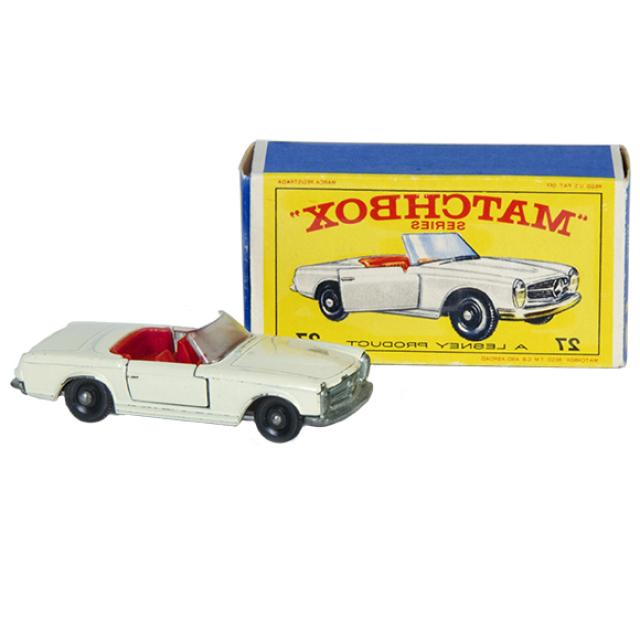Car: (12, 311, 373, 441)
